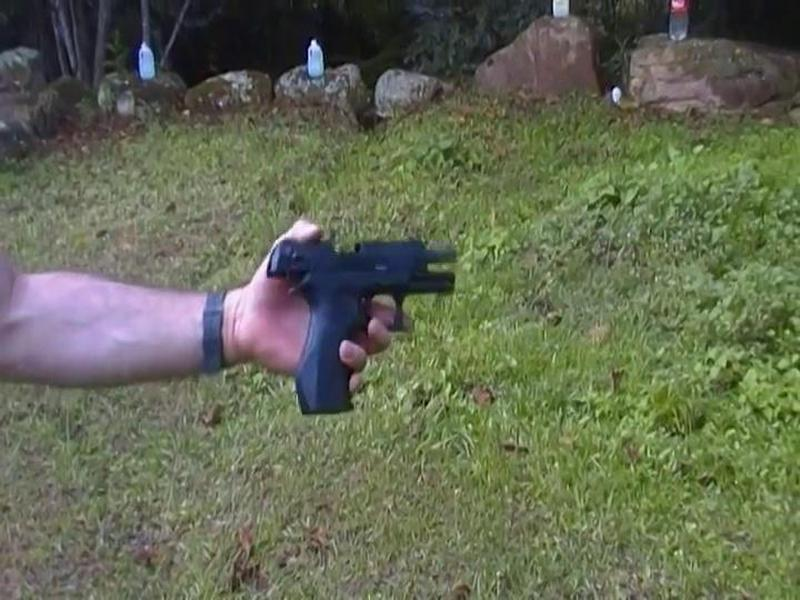Pistola: (259, 229, 483, 423)
